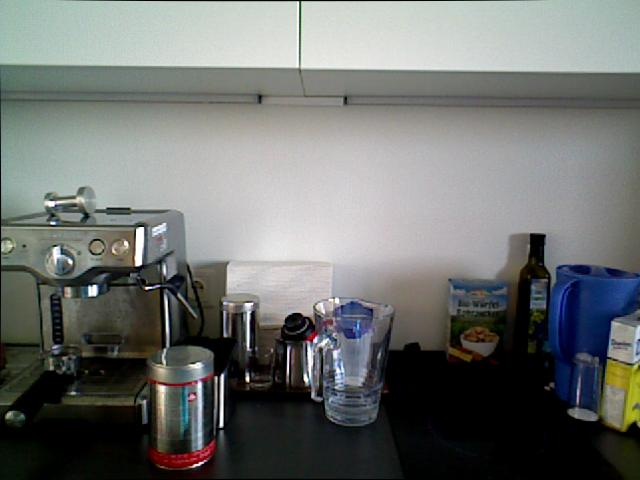bench: (512, 232, 551, 364)
bird: (459, 331, 499, 357)
handbag: (546, 260, 640, 407), (310, 295, 395, 426), (561, 349, 604, 427)
